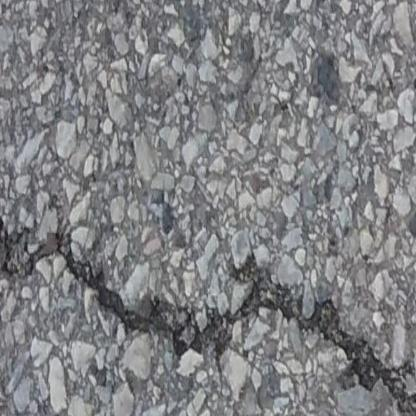Cracks: (0, 210, 416, 416)
